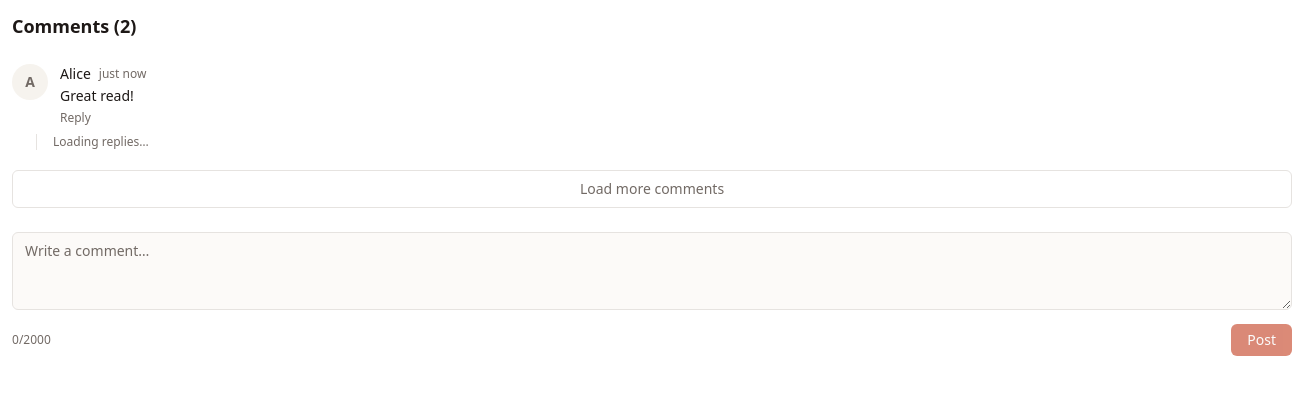
Test: CommentSection › loads more top-level comments with the Load more button
The image size is (1304, 397).
What coordinates should you click on to do the following:
click the button "Load more comments"
I would click on:
 (652, 189)
Its box is left=12, top=170, right=1292, bottom=208.
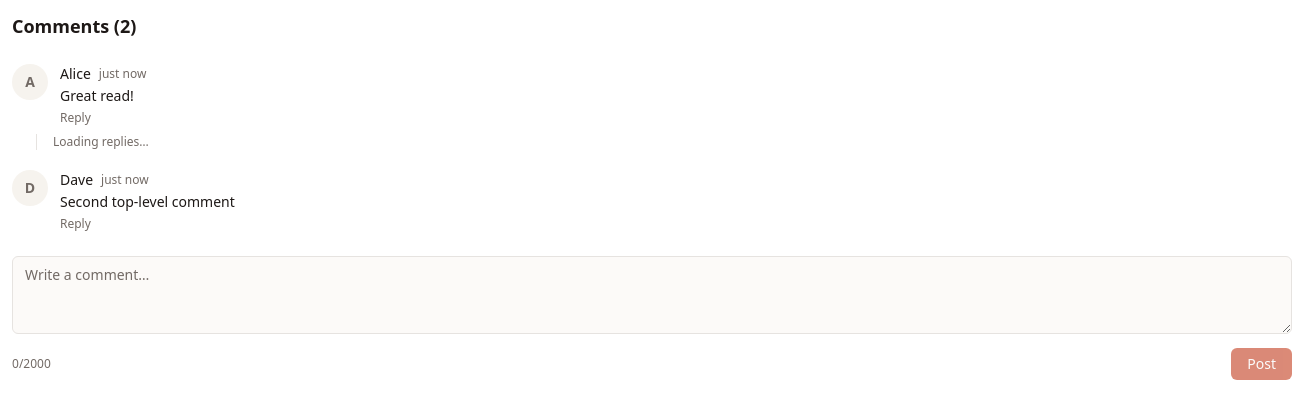
Now the text "Second top-level comment" is shown, box left=60, top=192, right=235, bottom=211
